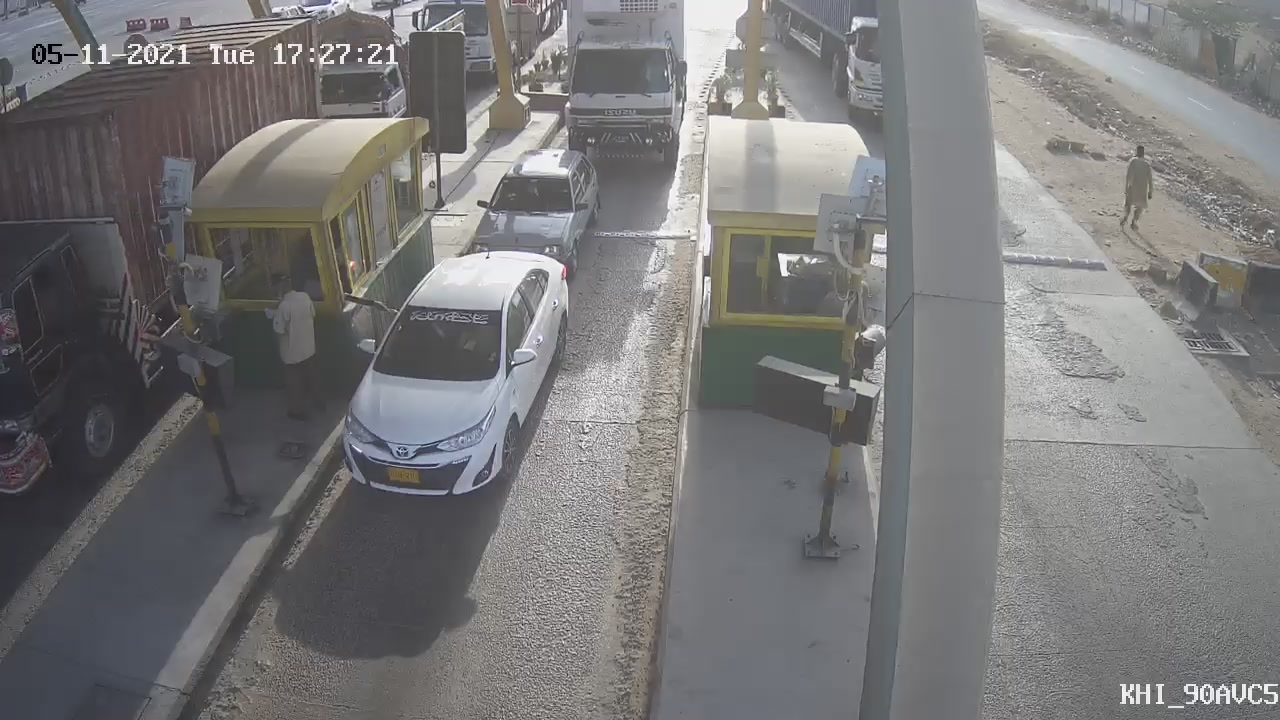F1: (313, 234, 595, 527), (452, 133, 621, 311)
